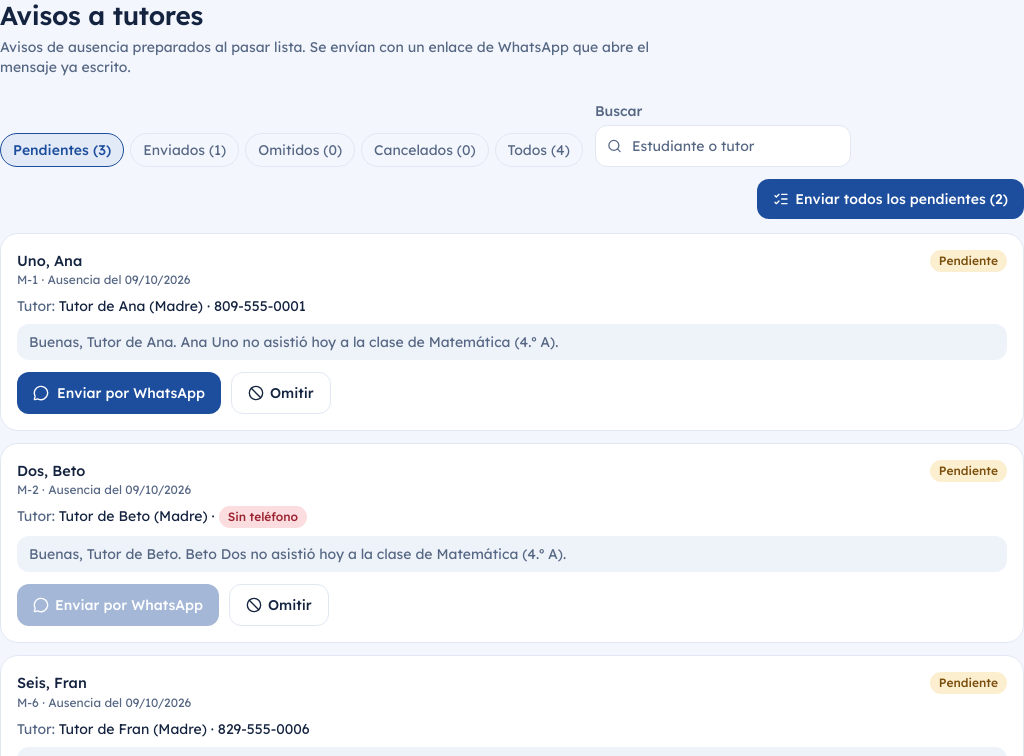
Avisos a tutores › envío seguido › recorre los avisos uno tras otro, marcando cada uno como enviado
The width and height of the screenshot is (1024, 756).
Click the button "Enviar todos los pendientes (2)". click: (891, 198)
box: [757, 178, 1023, 218]
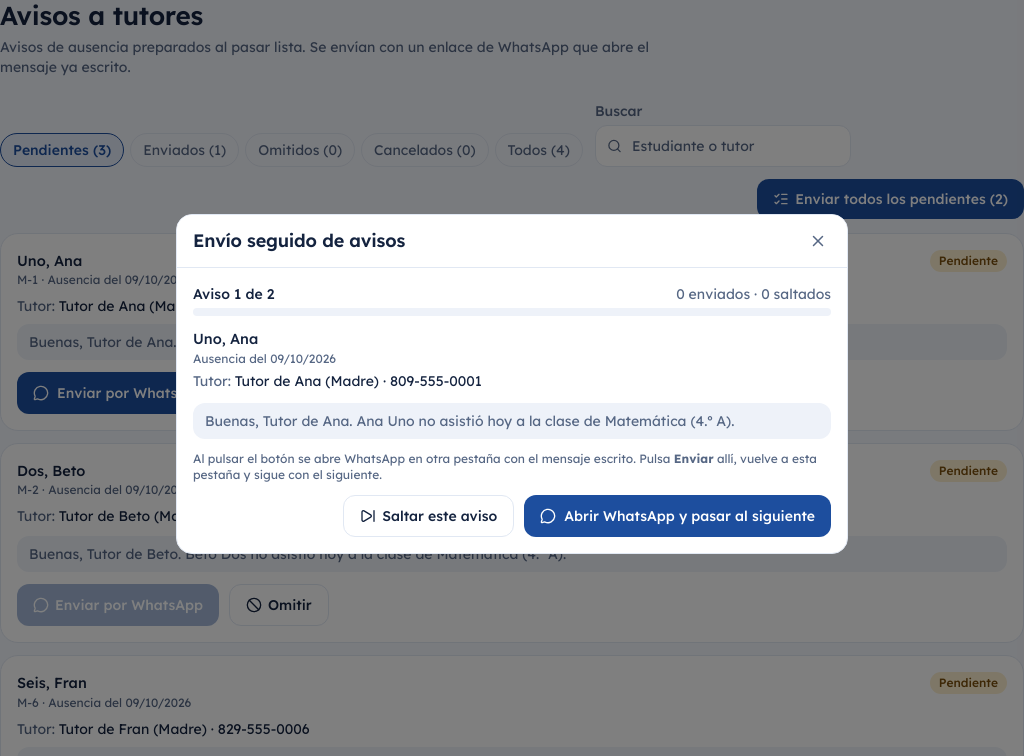
Now the dialog shows "Aviso 1 de 2", box [176, 214, 848, 554]
Now the dialog shows "Uno, Ana", box [193, 329, 258, 348]
Click the link "Abrir WhatsApp y pasar al siguiente". click: (678, 516)
box: [524, 495, 831, 537]
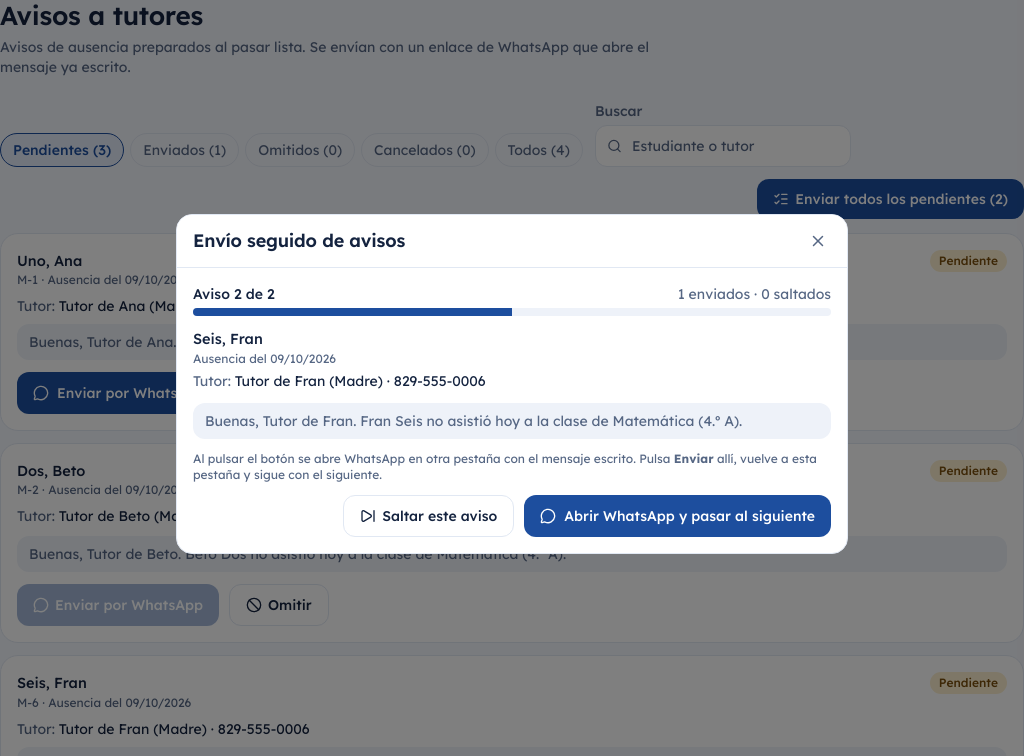
Now the dialog shows "Aviso 2 de 2", box [176, 214, 848, 554]
Now the dialog shows "Seis, Fran", box [193, 329, 263, 348]
Click the button "Saltar este aviso". click: (429, 516)
box: [343, 495, 514, 537]
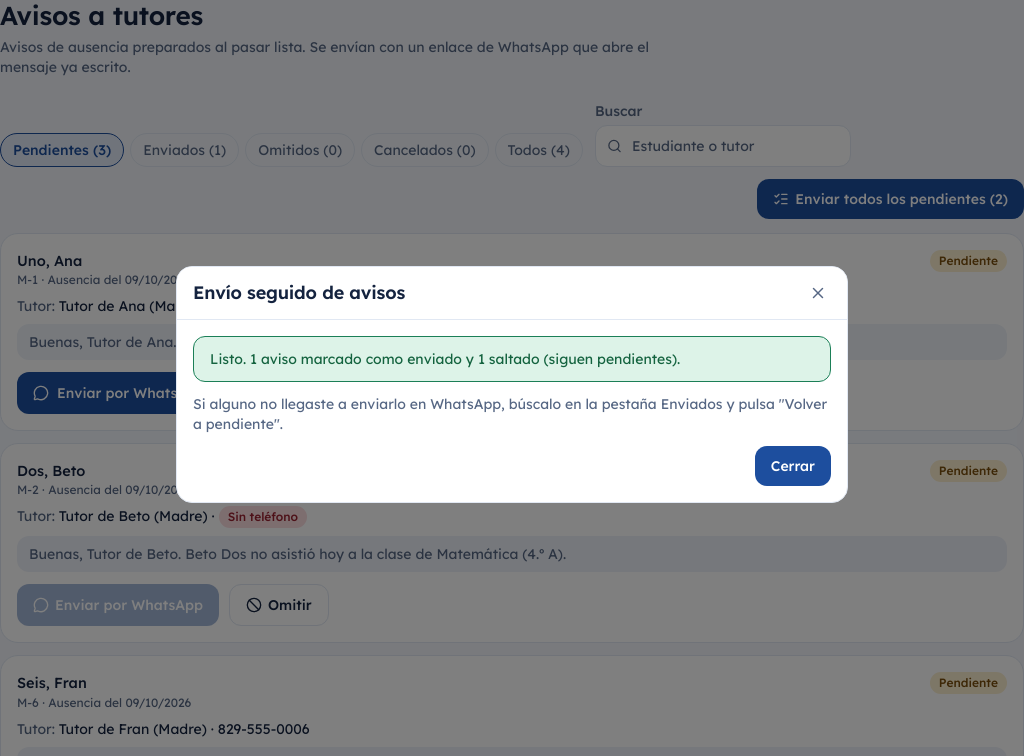
Now the dialog shows "1 aviso marcado como enviado y 1 saltado (siguen pendientes)", box [176, 266, 848, 502]
Click the button "Cerrar". click: (793, 466)
box: [755, 446, 831, 486]
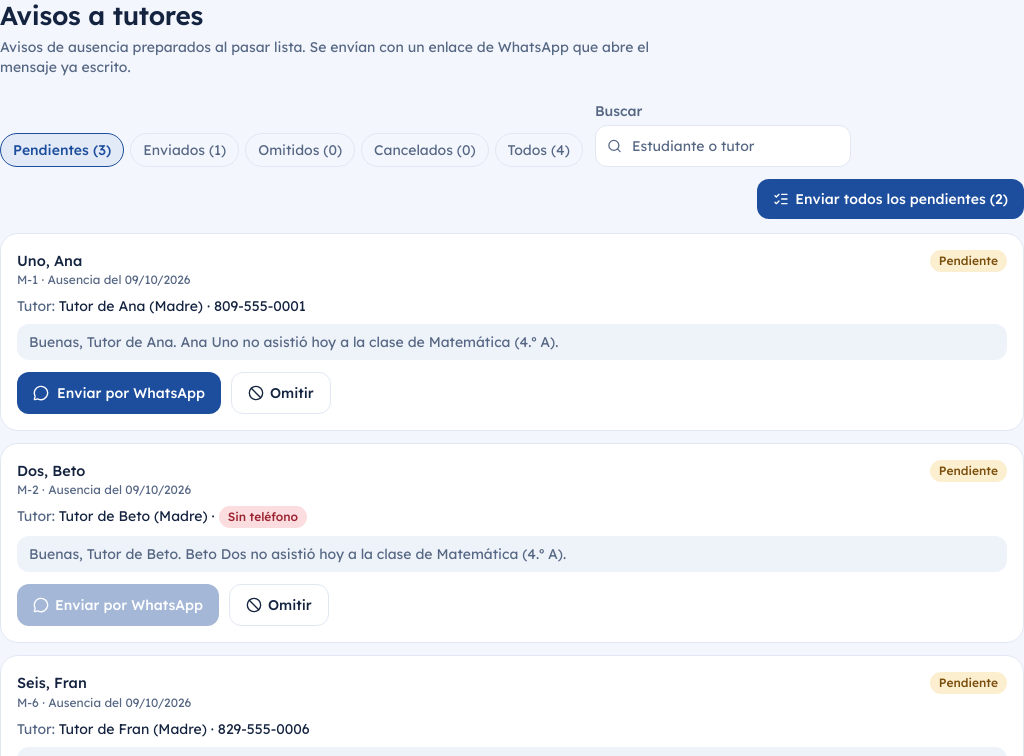
Now the dialog is gone
